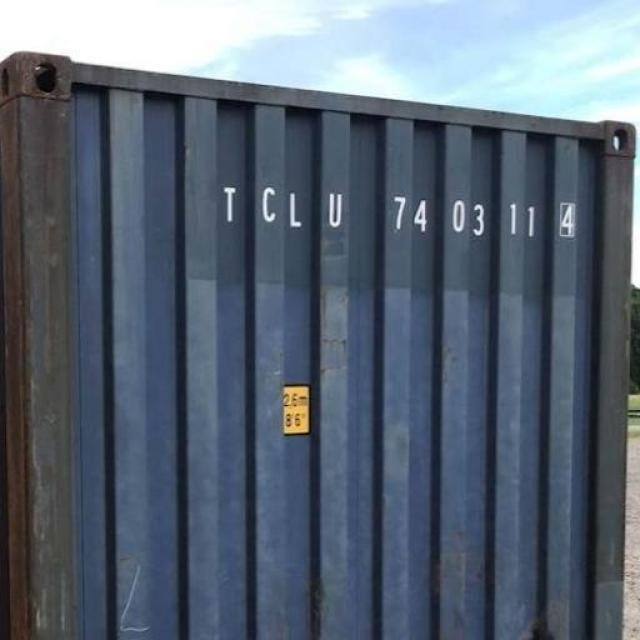container_number: (213, 174, 582, 251)
